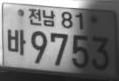1: (74, 11, 88, 30)
3: (92, 35, 109, 72)
5: (71, 34, 90, 69)
7: (50, 31, 68, 66)
8: (60, 9, 73, 29)
9: (31, 29, 48, 66)
바: (6, 27, 25, 55)
전남_H: (27, 7, 55, 27)
